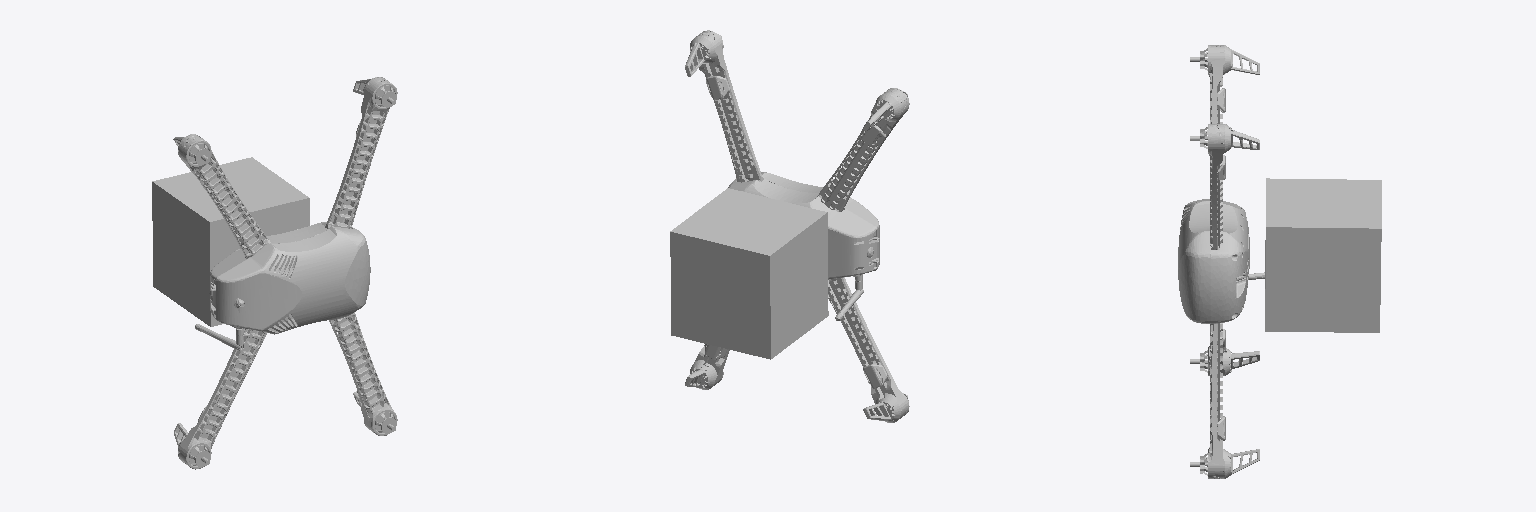
File: iris.obj
3 views of the same model, side by side, from view 1: azimuth 30°, elevation 25°; view 2: azimuth 150°, elevation 25°; view 3: azimuth 270°, elevation 25° (orthographic).
Parts seen in each view (by area): view 1: Cube_Cube.001; view 2: Cube_Cube.001; view 3: Cube_Cube.001.
Boxes of the visible parts, box(x1,y1,x2,y2) form: Cube_Cube.001: box(152, 77, 397, 469); Cube_Cube.001: box(670, 30, 909, 422); Cube_Cube.001: box(1178, 45, 1381, 478).
Bounding box in the file's own units: 0.2994 × 0.4777 × 0.2496.